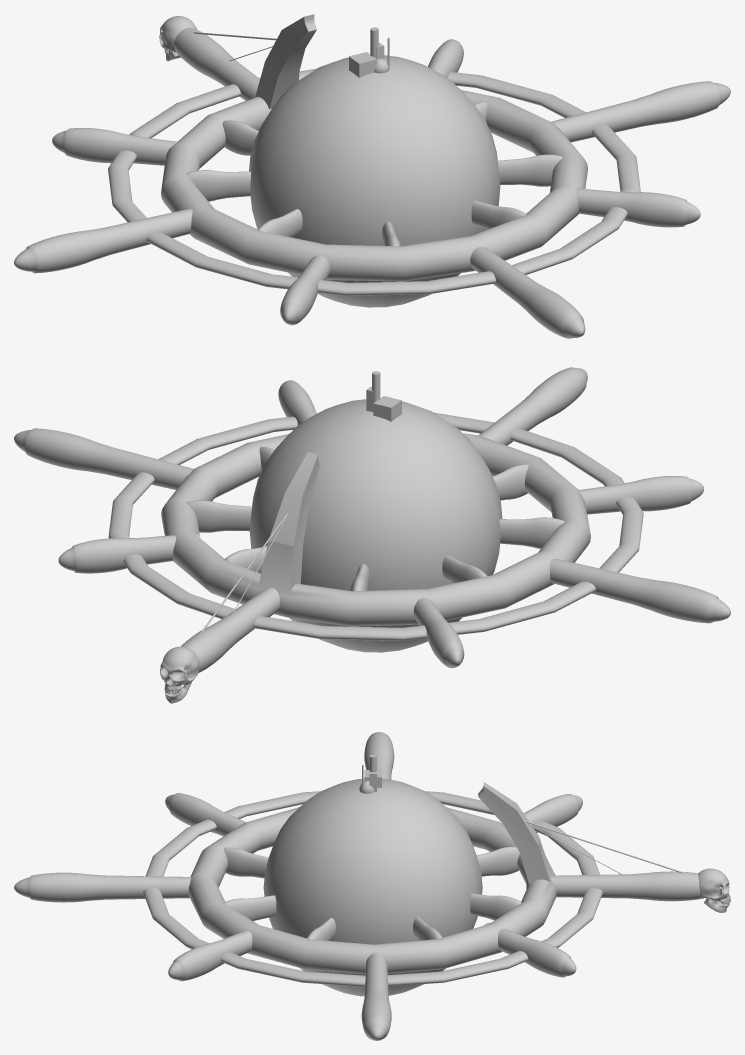
The model's file is moonQuarry.fbx.
The picture shows the model from 3 angles, top to bottom: view 1: azimuth 30°, elevation 25°; view 2: azimuth 150°, elevation 25°; view 3: azimuth 270°, elevation 25°; orthographic projection. The views are drawn at different scales.
Parts seen in each view (by area): view 1: group8; view 2: group8; view 3: group8.
Part boxes in pixels (left/top/right/bottom): group8: left=14, top=14, right=730, bottom=338; group8: left=14, top=367, right=730, bottom=703; group8: left=14, top=732, right=730, bottom=1040.
Bounding box in the file's own units: 53991 × 19279 × 54263.
Materials: 1 (1 with a texture image).
